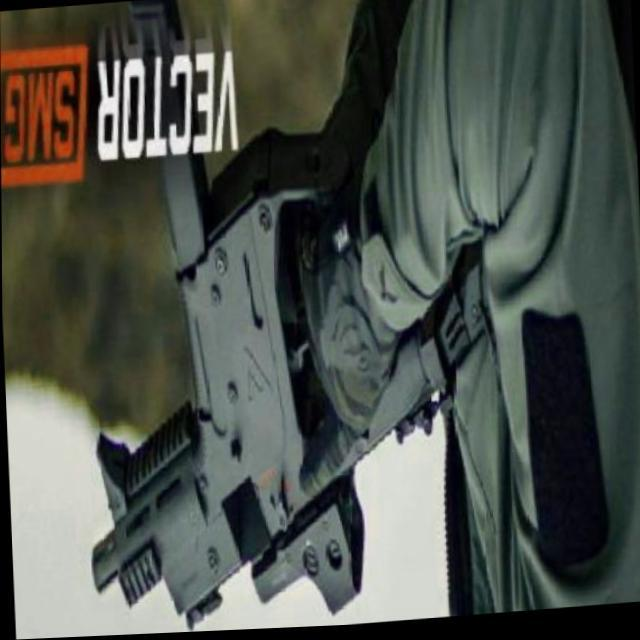weapon: (66, 0, 477, 638)
